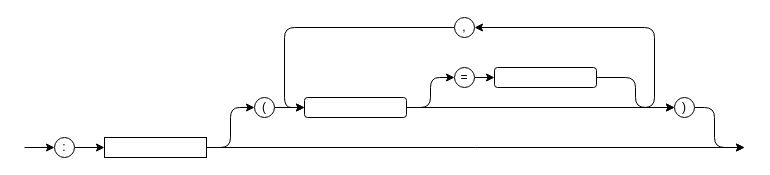
The diagram is 770 pixels wide and 175 high, and some of its shapes have lost their labels. The shapes that lost their labels are listed below. From the top down, each one's centre as x and y in pixels, then its label:
the point at 545,77: range
the point at 355,107: rgb color spec
the point at 155,147: heat
